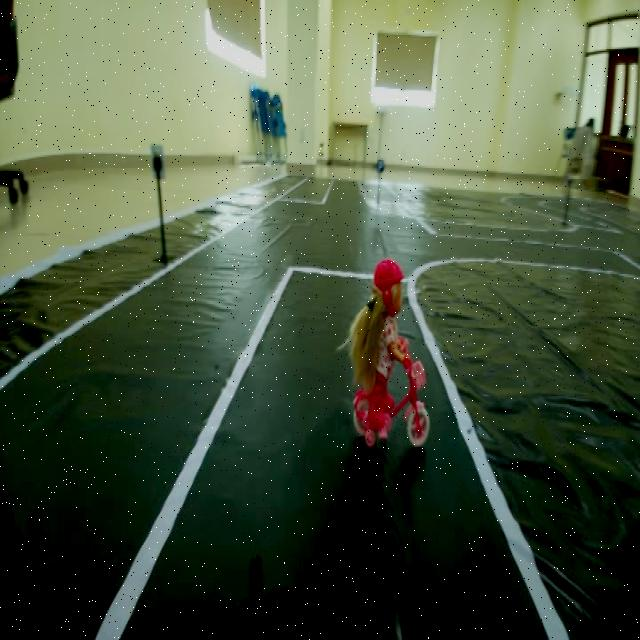pedestrian: (338, 251, 440, 454)
